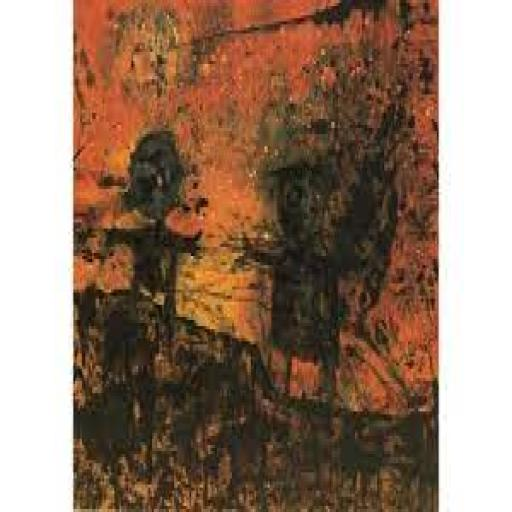person: (226, 140, 376, 414), (99, 119, 207, 366)
